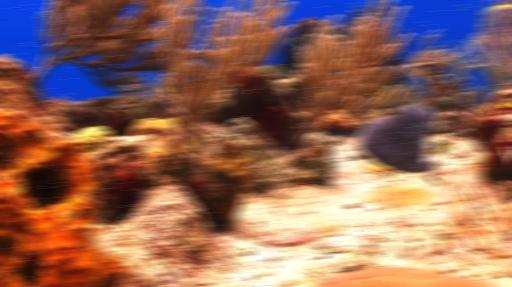Fish: (383, 84, 416, 115), (265, 63, 294, 78), (485, 5, 511, 14), (438, 143, 453, 153), (498, 102, 511, 107), (289, 37, 298, 43), (464, 4, 470, 11)
